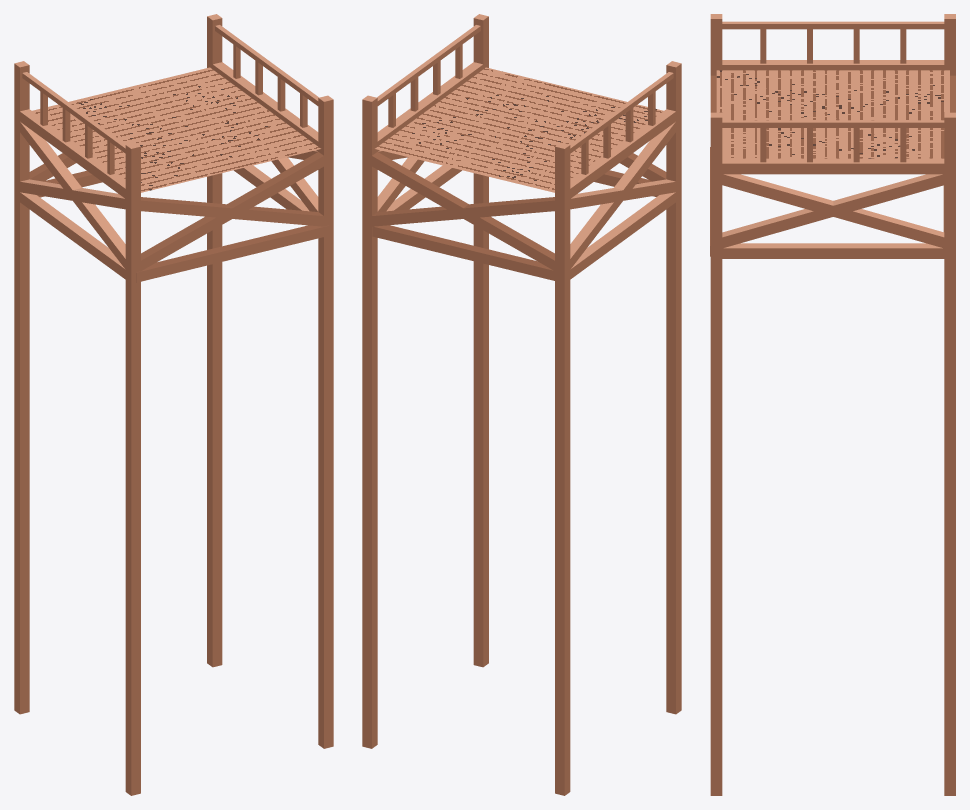
File: wooden_bridge.glb
3 views of the same model, side by side, from view 1: azimuth 30°, elevation 25°; view 2: azimuth 150°, elevation 25°; view 3: azimuth 270°, elevation 25° (orthographic). The views are drawn at different scales.
Parts seen in each view (by area): view 1: wooden_bridge; view 2: wooden_bridge; view 3: wooden_bridge.
Part boxes in pixels (x1,y1,x2,y2): wooden_bridge: (14, 14, 333, 795); wooden_bridge: (362, 14, 681, 795); wooden_bridge: (710, 14, 955, 795).
Bounding box in the file's own units: 5.25 × 16.03 × 5.26.
1 material, 1 textured.
